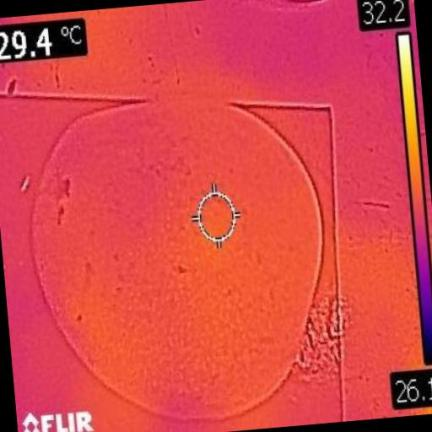mango: (32, 102, 322, 418)
